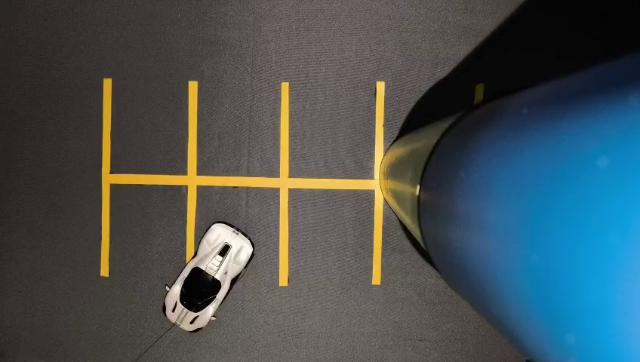toy_car: (146, 203, 274, 343)
